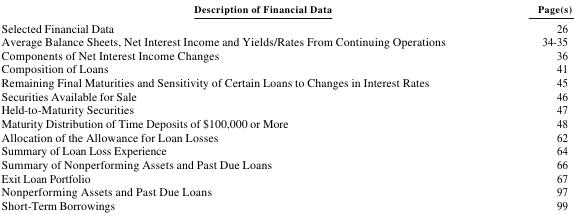table: (0, 1, 570, 212)
table column: (0, 1, 490, 212), (490, 1, 570, 212)
table column header: (0, 1, 570, 17)
table row: (0, 1, 570, 17), (0, 17, 570, 33), (0, 197, 570, 212), (0, 33, 570, 47), (0, 47, 570, 61), (0, 74, 570, 88), (0, 101, 570, 115), (0, 115, 570, 129), (0, 142, 570, 156), (0, 156, 570, 170), (0, 183, 570, 197), (0, 61, 570, 74), (0, 88, 570, 101), (0, 129, 570, 142), (0, 170, 570, 183)
